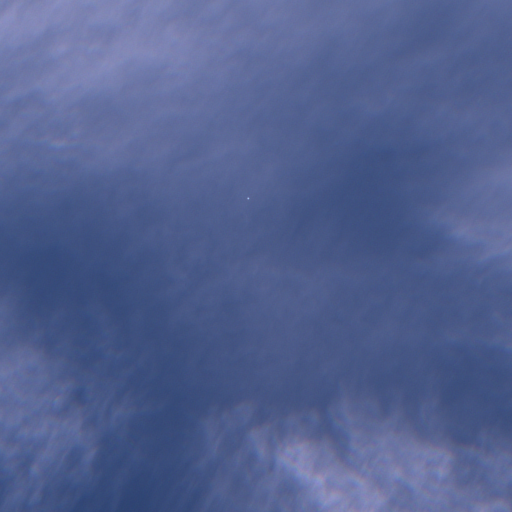Iceberg: (247, 197, 249, 199)
